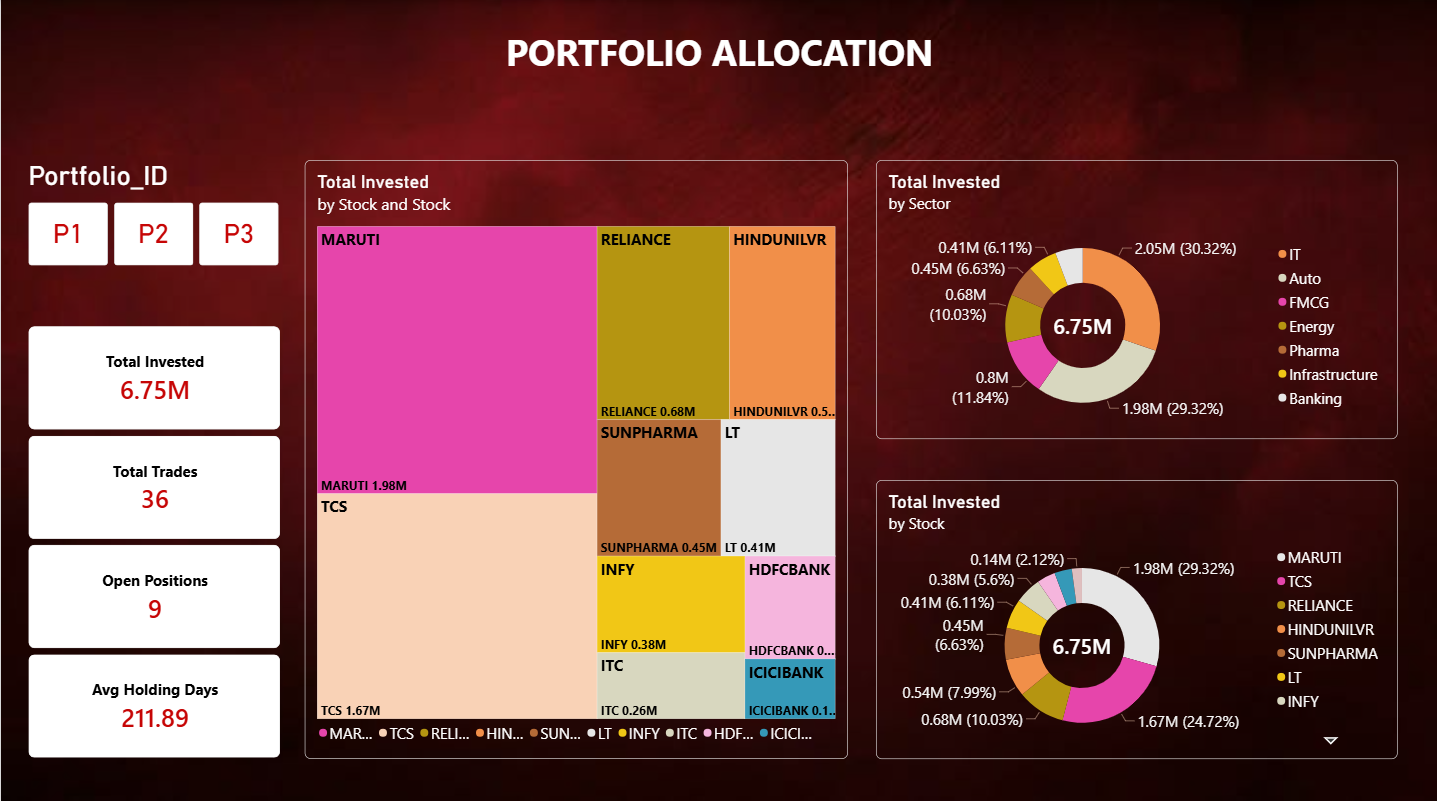

The dashboard page shown, as its layout file describes it:
{"tool":"powerbi","page":{"name":"portfolio allocation","canvas":[1920,1080],"ordinal":5},"visuals":[{"type":"advancedSlicerVisual","fields":{"Values":["transactions.Portfolio_ID"]},"box":[36.2,213.5,336.6,141.2],"z":0},{"type":"donutChart","fields":{"Category":["Stocks.Sector"],"Y":["transactions.Total Invested"]},"box":[1169,213.5,696.7,372.8],"z":1000},{"type":"donutChart","fields":{"Category":["transactions.Stock"],"Y":["transactions.Total Invested"]},"box":[1169,640.6,696.7,372.8],"z":2000},{"type":"treemap","fields":{"Details":["transactions.Stock"],"Group":["Stocks.Stock"],"Values":["transactions.Total Invested"]},"box":[405.4,213.5,725.7,799.9],"z":3000},{"type":"cardVisual","fields":{"Data":["transactions.Total Invested","transactions.Total Trades","transactions.Open Positions","transactions.Avg Holding Days"]},"box":[36.2,436.1,336.6,577.3],"z":4000},{"type":"textbox","box":[0,18.1,1920.1,150.2],"z":5000}]}

Visuals, with their boxes in screenshot pixels (x1, y1, x2, y2), scaled from the page's 1920x1080 canvas onto the 1437x801 screenshot:
advancedSlicerVisual - transactions.Portfolio_ID: left=27, top=158, right=279, bottom=263
donutChart - Stocks.Sector x transactions.Total Invested: left=875, top=158, right=1396, bottom=435
donutChart - transactions.Stock x transactions.Total Invested: left=875, top=475, right=1396, bottom=752
treemap - transactions.Stock x Stocks.Stock: left=303, top=158, right=847, bottom=752
cardVisual - transactions.Total Invested x transactions.Total Trades: left=27, top=323, right=279, bottom=752
textbox: left=0, top=13, right=1436, bottom=125
